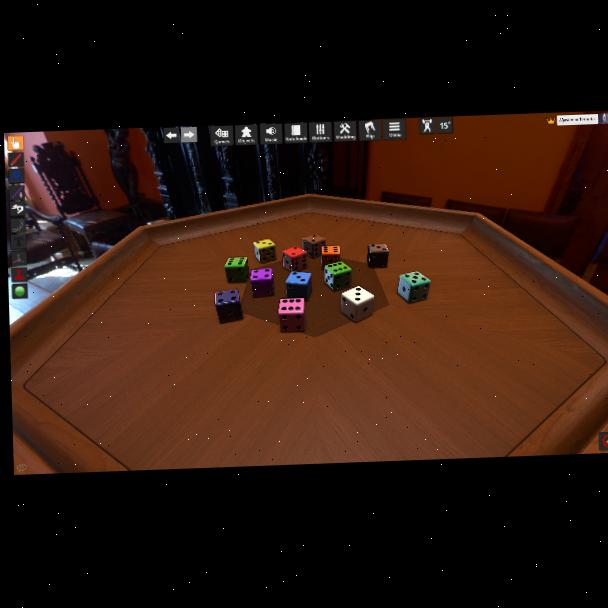d6: (340, 287, 373, 324), (396, 272, 428, 305), (278, 298, 306, 333), (213, 290, 241, 324), (285, 272, 313, 304), (323, 261, 350, 292), (251, 268, 275, 298), (224, 256, 250, 283), (282, 246, 306, 273), (252, 240, 275, 265), (366, 243, 388, 269), (302, 234, 324, 260), (323, 245, 341, 269)
